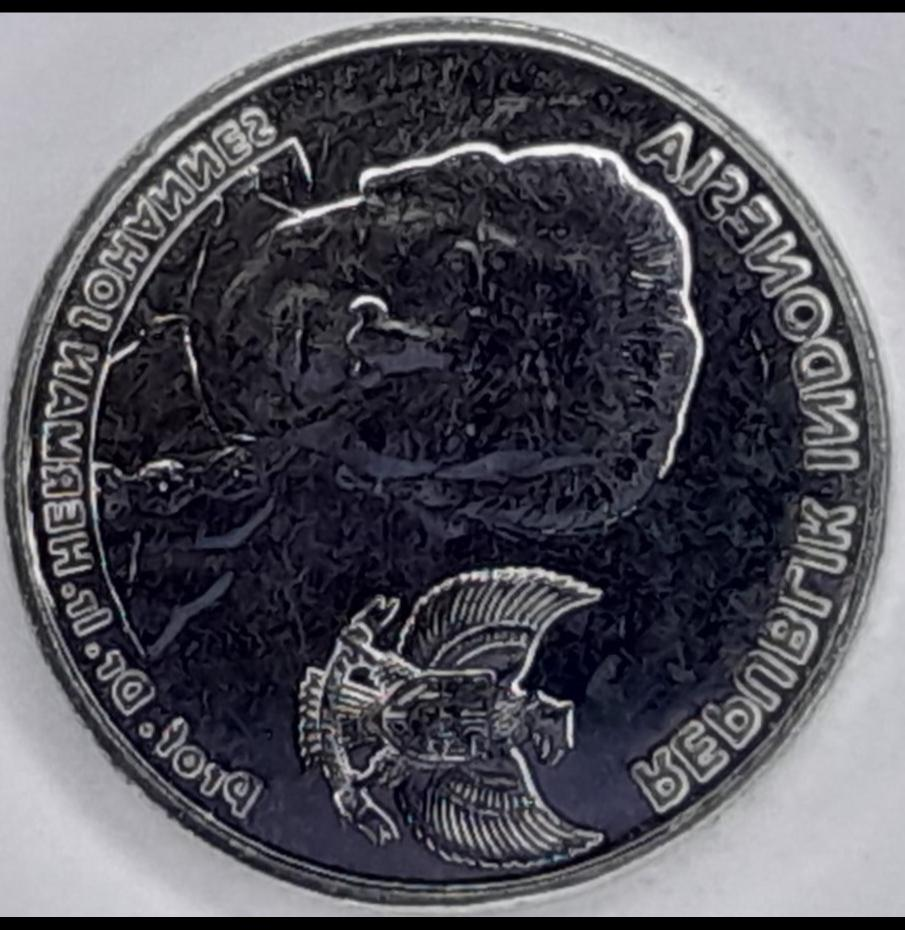coin_100_e2016: (0, 12, 894, 909)
